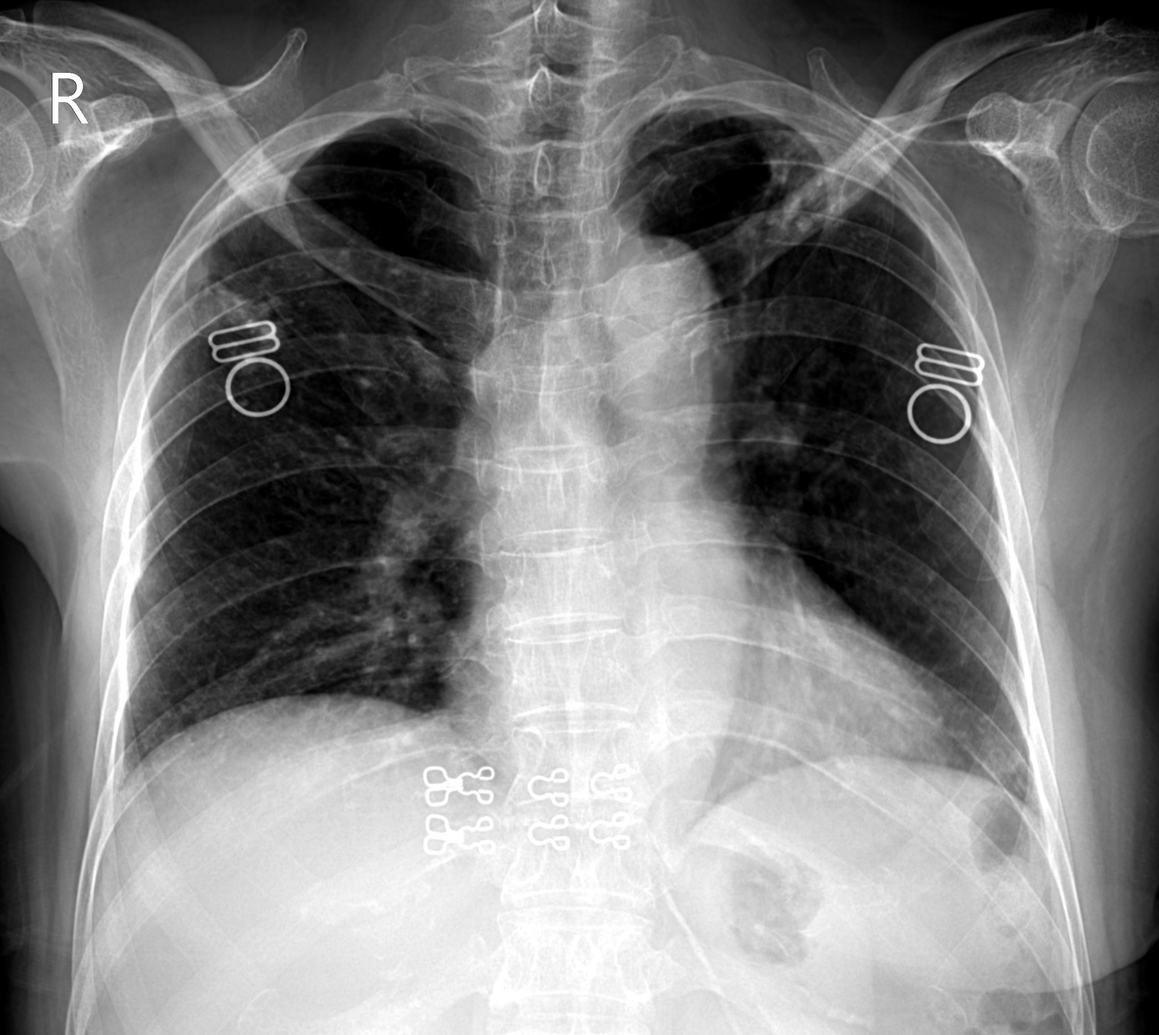Aortic enlargement: (561, 224, 718, 394)
Cardiomegaly: (430, 623, 964, 815)
Pleural thickening: (649, 92, 872, 225), (104, 731, 132, 822)
